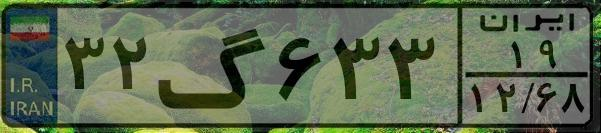1: (508, 27, 537, 80), (470, 70, 495, 125)
2: (110, 28, 156, 98), (495, 70, 520, 125)
3: (385, 28, 445, 110), (330, 28, 385, 110), (57, 26, 110, 100)
6: (270, 28, 330, 110), (535, 70, 560, 125)
8: (560, 70, 590, 125)
9: (537, 27, 568, 80)
گ: (156, 12, 270, 120)
